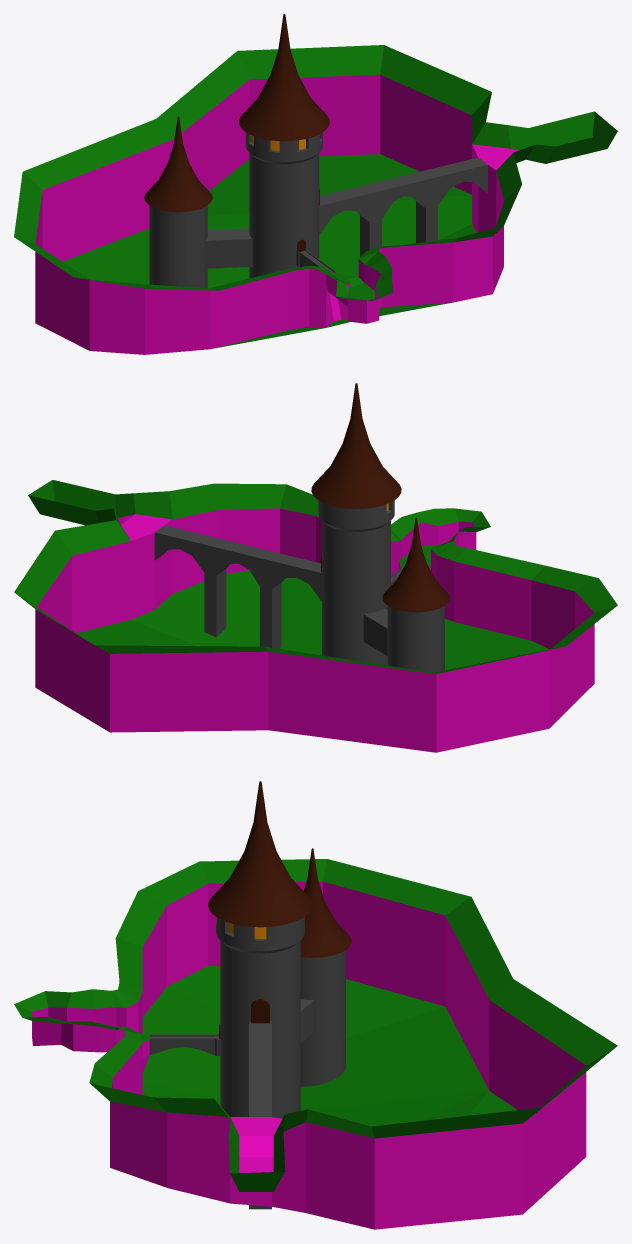
The model's file is level_hub.glb.
The picture shows the model from 3 angles, top to bottom: view 1: azimuth 30°, elevation 25°; view 2: azimuth 150°, elevation 25°; view 3: azimuth 270°, elevation 25°; orthographic projection. The views are drawn at different scales.
Visible parts, largest first — view 1: background_plane-col, playable_area_mesh-col.001, tower_mesh.001, tower_mesh-col.002; view 2: background_plane-col, playable_area_mesh-col.001, tower_mesh.001, tower_mesh-col.002; view 3: background_plane-col, tower_mesh.001, playable_area_mesh-col.001, tower_mesh-col.002.
Part boxes in pixels (x1,y1,x2,y2): background_plane-col: (14, 45, 617, 350); playable_area_mesh-col.001: (79, 185, 521, 354); tower_mesh.001: (144, 14, 329, 287); tower_mesh-col.002: (319, 157, 487, 256); background_plane-col: (14, 480, 617, 752); playable_area_mesh-col.001: (214, 483, 617, 649); tower_mesh.001: (311, 383, 449, 672); tower_mesh-col.002: (154, 525, 321, 648); background_plane-col: (142, 859, 617, 1229); tower_mesh.001: (208, 781, 351, 1118); playable_area_mesh-col.001: (14, 861, 269, 1187); tower_mesh-col.002: (249, 1022, 271, 1209).
Bounding box in the file's own units: 421 × 223 × 341.
